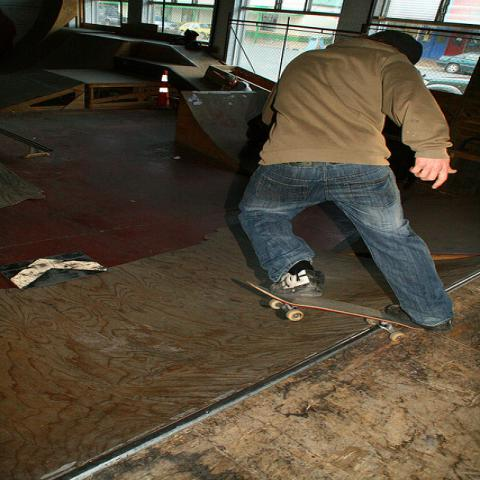car: (437, 50, 479, 76), (422, 75, 471, 95), (170, 24, 213, 42), (155, 15, 182, 31)
